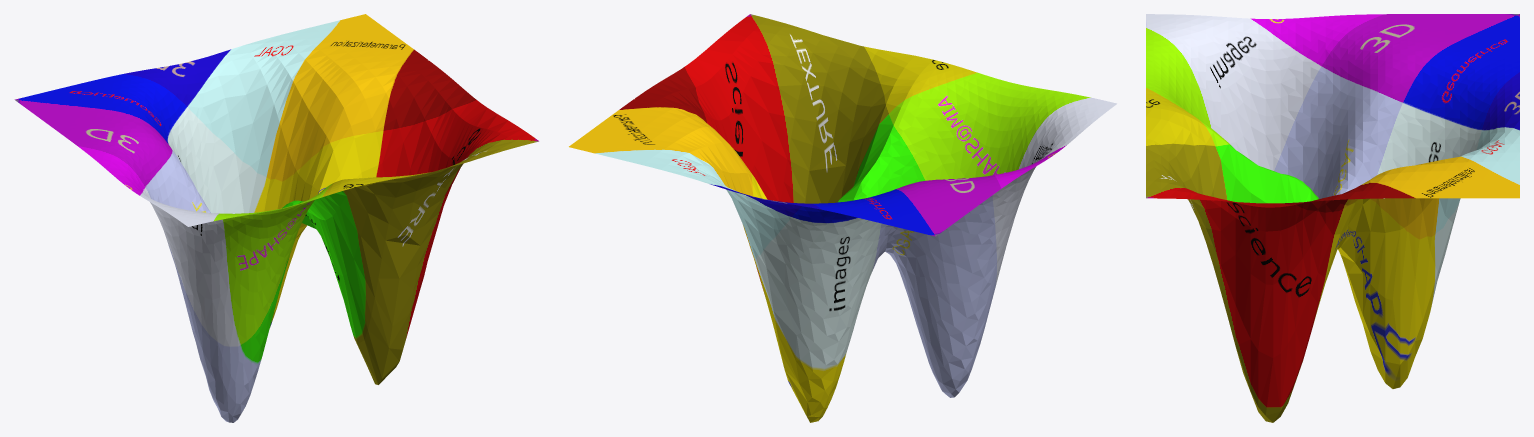
File: test_three_peaks_floater_circle.obj
3 views of the same model, side by side, from view 1: azimuth 30°, elevation 25°; view 2: azimuth 150°, elevation 25°; view 3: azimuth 270°, elevation 25° (orthographic). The views are drawn at different scales.
Bounding box in the file's own units: 20 × 14.33 × 17.14.
Materials: 1 (1 with a texture image).
